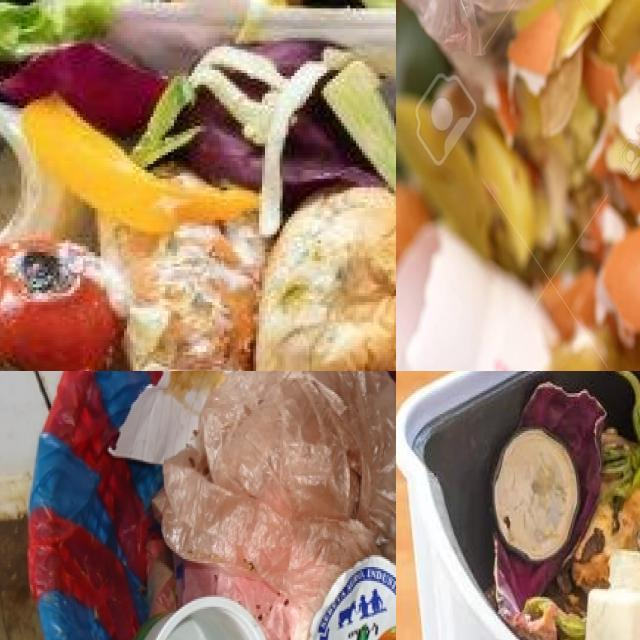Garbage: (396, 0, 640, 371), (113, 371, 396, 640), (432, 371, 640, 640)
Metal: (309, 555, 396, 640)
Plastic_Bag: (155, 371, 396, 640)
Plastic_bottle: (0, 105, 93, 242)
